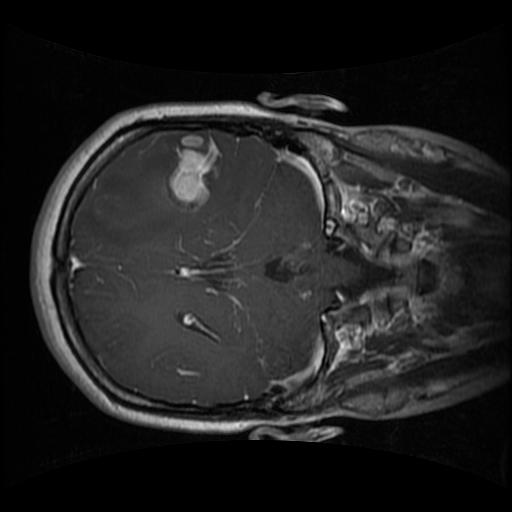glioma: (161, 129, 223, 214)
